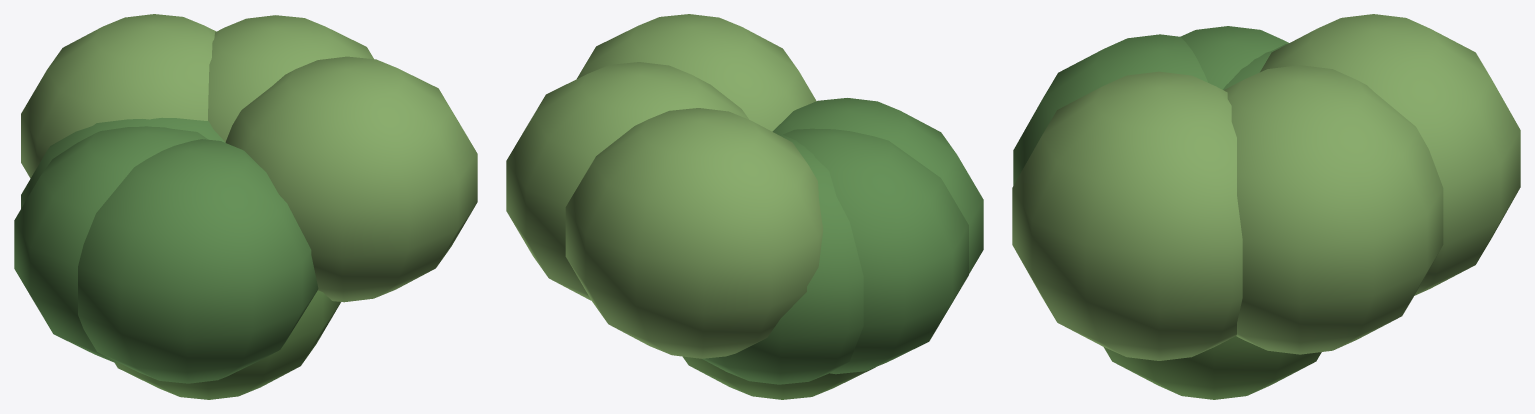
Rendered from bush.glb.
3 views of the same model, side by side, from view 1: azimuth 30°, elevation 25°; view 2: azimuth 150°, elevation 25°; view 3: azimuth 270°, elevation 25° (orthographic). The views are drawn at different scales.
Size of the model in its own units: 1.15 by 0.84 by 1.08.
